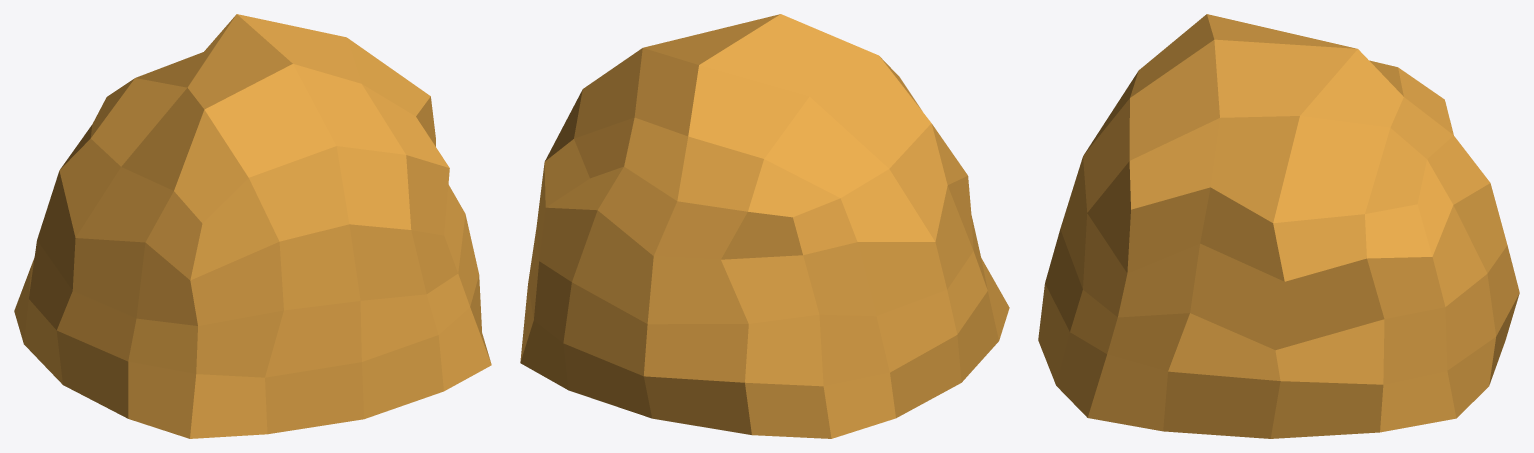
Rendered from Haybale_001.fbx.
The picture shows the model from 3 angles, left to right: view 1: azimuth 30°, elevation 25°; view 2: azimuth 150°, elevation 25°; view 3: azimuth 270°, elevation 25°; orthographic projection. The views are drawn at different scales.
Visible parts, largest first — view 1: haybale; view 2: haybale; view 3: haybale.
Part boxes in pixels (x1,y1,x2,y2): haybale: (14,14,491,438); haybale: (520,14,1009,438); haybale: (1038,14,1519,438).
Size of the model in its own units: 228 by 161 by 229.
